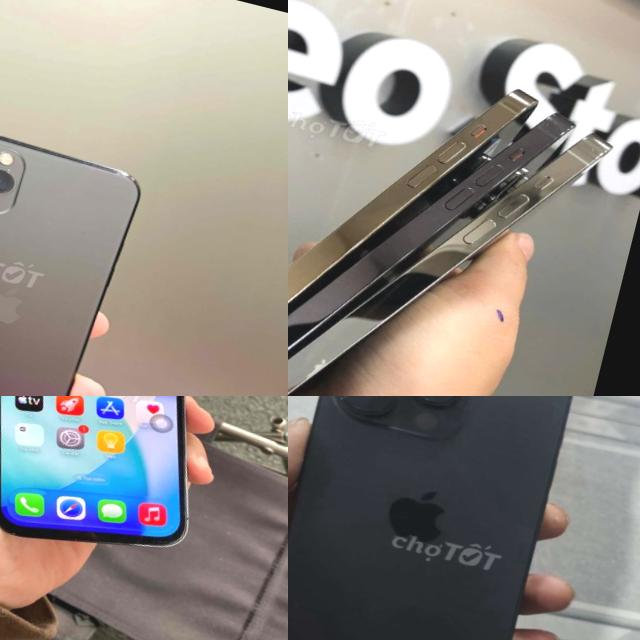gen_11: (0, 135, 139, 396)
gen_14: (288, 396, 600, 640), (288, 89, 535, 305), (0, 396, 264, 575)
